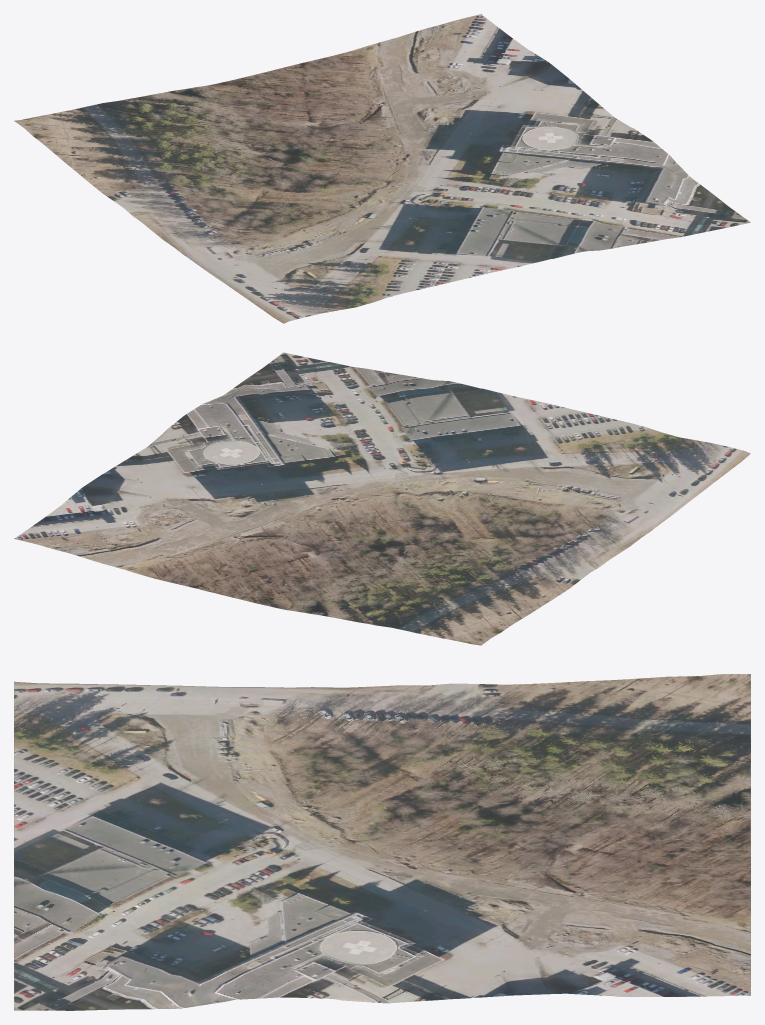
Rendered from CM_Terrain_24489844_6821841.fbx.
The picture shows the model from 3 angles, top to bottom: view 1: azimuth 30°, elevation 25°; view 2: azimuth 150°, elevation 25°; view 3: azimuth 270°, elevation 25°; orthographic projection. The views are drawn at different scales.
Visible parts, largest first — view 1: CM_Terrain_24489844_6821841_LOD0; view 2: CM_Terrain_24489844_6821841_LOD0; view 3: CM_Terrain_24489844_6821841_LOD0.
Part boxes in pixels (left/top/right/bottom): CM_Terrain_24489844_6821841_LOD0: left=14, top=14, right=750, bottom=323; CM_Terrain_24489844_6821841_LOD0: left=14, top=352, right=750, bottom=645; CM_Terrain_24489844_6821841_LOD0: left=14, top=674, right=750, bottom=1010.
Size of what is drawn, in the model's own units: 205 by 7.77 by 205.
